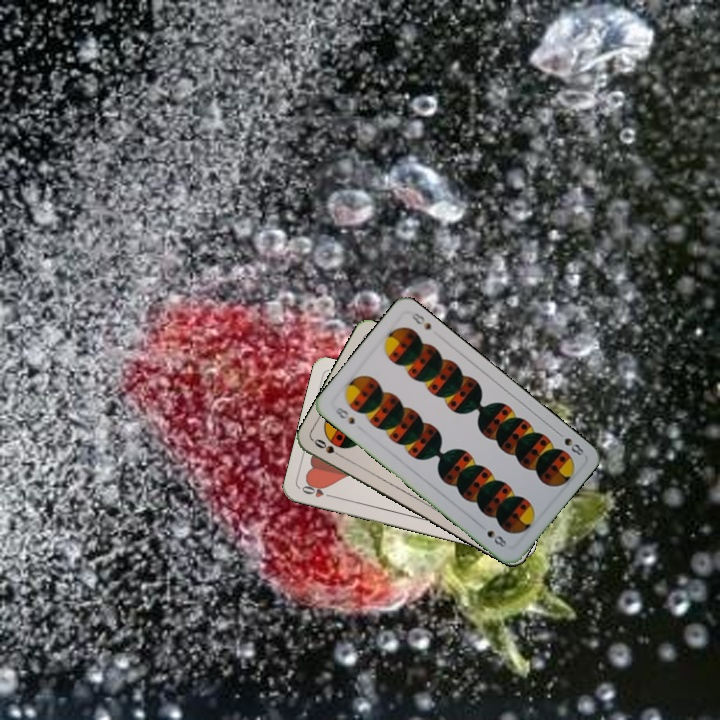HO: (298, 480, 337, 500)
S8: (552, 427, 588, 458), (331, 403, 357, 427)
SO: (310, 435, 347, 461)
